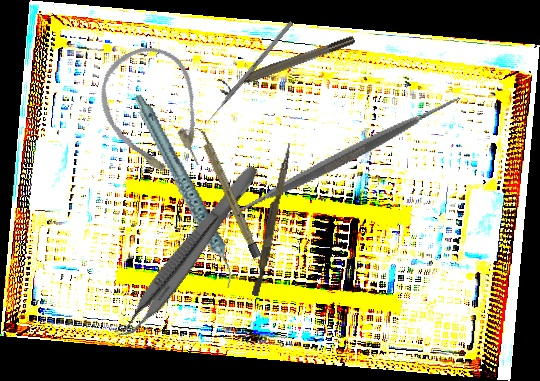Cannula: (86, 35, 222, 191)
Fixation Ring: (216, 33, 359, 98)
Handpiece: (133, 83, 236, 299)
Pusher: (201, 20, 294, 129), (251, 141, 293, 298)
Scalpel Handle: (195, 125, 262, 260)
Spatula Surgical: (209, 24, 475, 291)
Tissue Forceps: (111, 156, 262, 347)
